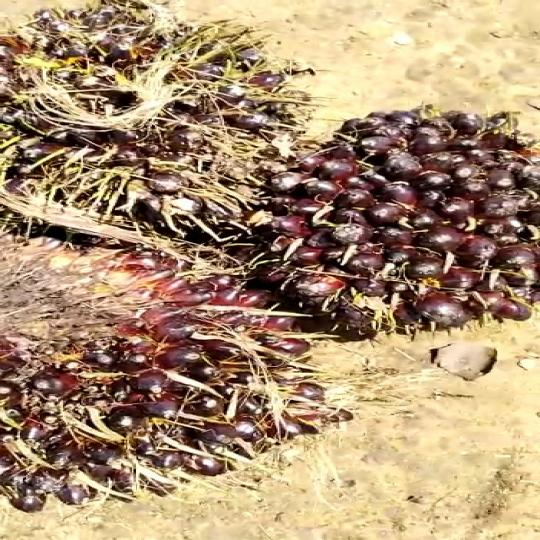mentah: (0, 253, 374, 502), (234, 89, 540, 350), (0, 0, 313, 235)
